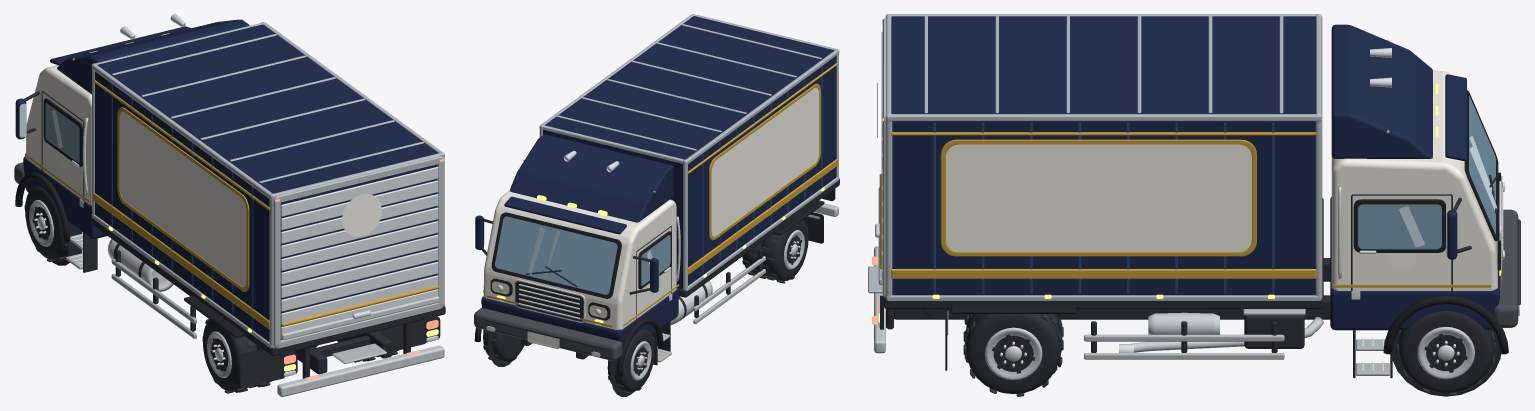
Rendered from FleetTruck_Dry.fbx.
3 views of the same model, side by side, from view 1: azimuth 30°, elevation 25°; view 2: azimuth 150°, elevation 25°; view 3: azimuth 270°, elevation 25° (orthographic). The views are drawn at different scales.
Parts seen in each view (by area): view 1: Body.001; view 2: Body.001; view 3: Body.001.
Boxes of the visible parts, x1,y1,x2,y2 form: Body.001: [14, 14, 445, 396]; Body.001: [474, 14, 839, 396]; Body.001: [868, 14, 1520, 396].
Bounding box in the file's own units: 2.98 × 3.2 × 6.51.
